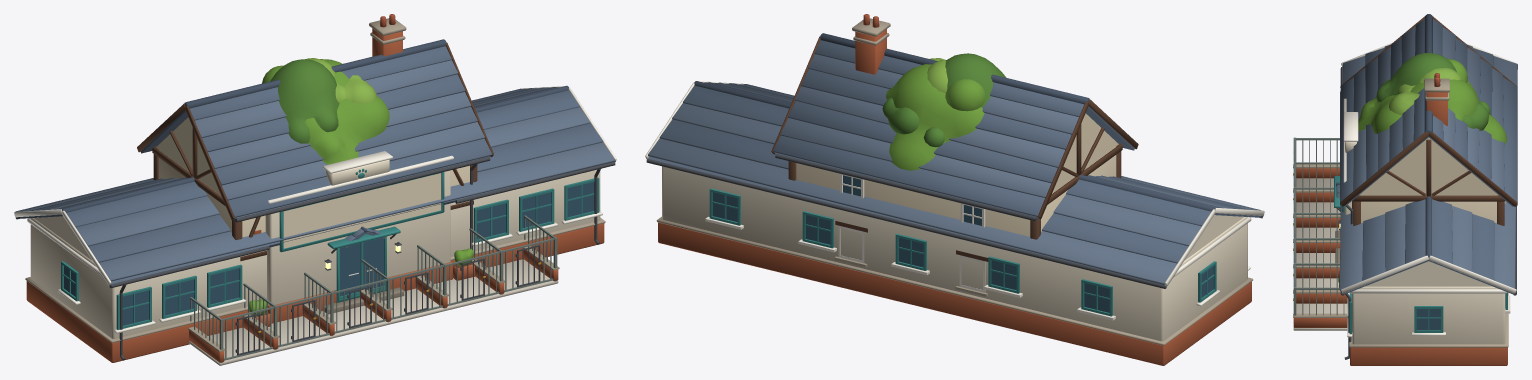
Rendered from props.glb.
The picture shows the model from 3 angles, left to right: view 1: azimuth 30°, elevation 25°; view 2: azimuth 150°, elevation 25°; view 3: azimuth 270°, elevation 25°; orthographic projection. The views are drawn at different scales.
Visible parts, largest first — view 1: RescueBuilding_Mesh, Farmhouse_Mesh, KennelBlock_Mesh, TreeOak_Mesh, TreeOak2_Mesh; view 2: RescueBuilding_Mesh, Farmhouse_Mesh, TreeOak_Mesh, TreeOak2_Mesh; view 3: RescueBuilding_Mesh, Farmhouse_Mesh, KennelBlock_Mesh, TreeOak_Mesh, TreeOak2_Mesh.
Part boxes in pixels (bbox=[...]): RescueBuilding_Mesh: bbox=[14, 85, 616, 362]; Farmhouse_Mesh: bbox=[137, 14, 493, 302]; KennelBlock_Mesh: bbox=[188, 215, 559, 365]; TreeOak_Mesh: bbox=[305, 58, 389, 164]; TreeOak2_Mesh: bbox=[262, 59, 342, 143]; RescueBuilding_Mesh: bbox=[645, 81, 1264, 365]; Farmhouse_Mesh: bbox=[771, 14, 1138, 296]; TreeOak_Mesh: bbox=[882, 58, 984, 170]; TreeOak2_Mesh: bbox=[945, 53, 1006, 111]; RescueBuilding_Mesh: bbox=[1334, 43, 1517, 365]; Farmhouse_Mesh: bbox=[1336, 14, 1517, 225]; KennelBlock_Mesh: bbox=[1293, 137, 1348, 330]; TreeOak_Mesh: bbox=[1358, 68, 1506, 143]; TreeOak2_Mesh: bbox=[1376, 53, 1467, 102].
Bounding box in the file's own units: 22.45 × 9.96 × 9.39.
